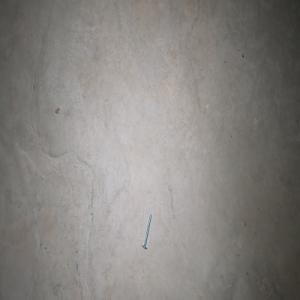Bolt: (141, 212, 152, 249)
